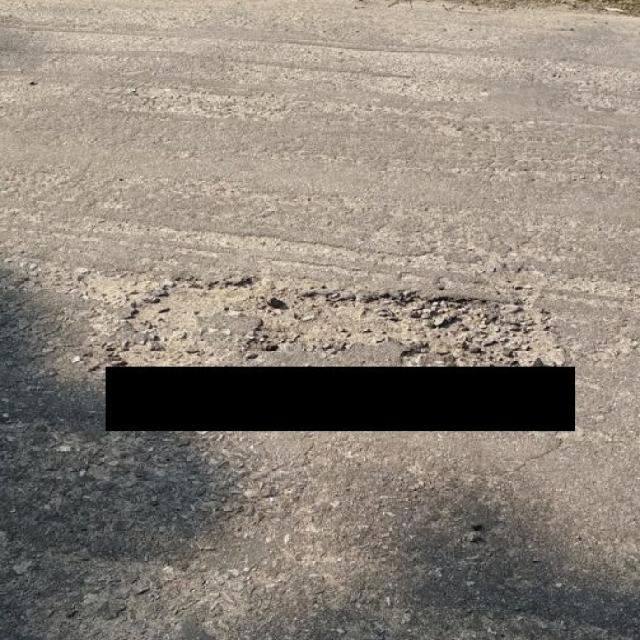road-pothole: (117, 273, 565, 368)
